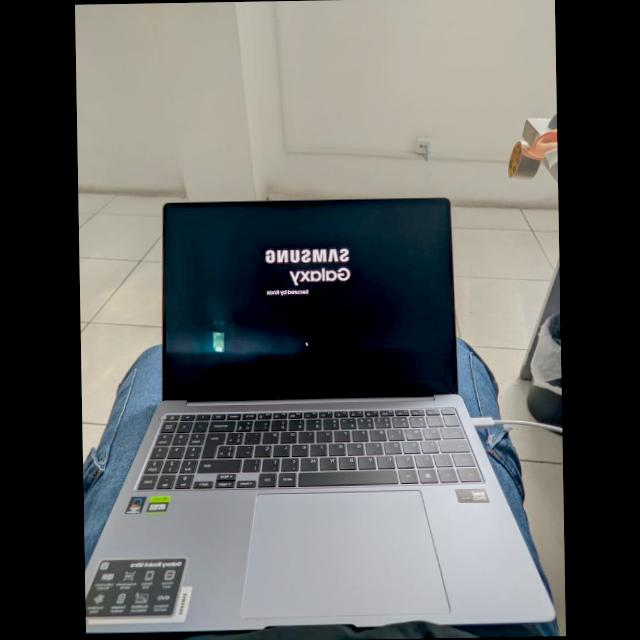laptop: (85, 197, 554, 635)
